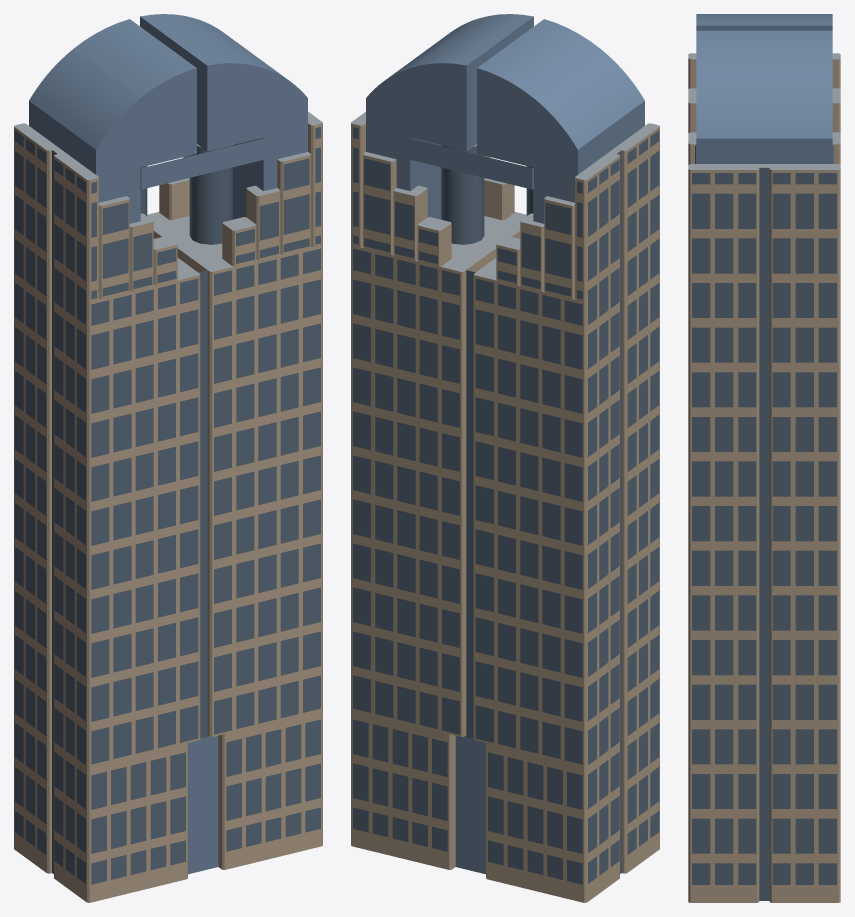
File: dal-chase-tower.glb
3 renders of one model, left to right at view 1: azimuth 30°, elevation 25°; view 2: azimuth 150°, elevation 25°; view 3: azimuth 270°, elevation 25°, orthographic.
Parts seen in each view (by area): view 1: Chase Tower; view 2: Chase Tower; view 3: Chase Tower.
Part boxes in pixels (box(x1,y1,x2,y2)): Chase Tower: box(14, 14, 322, 902); Chase Tower: box(351, 14, 659, 902); Chase Tower: box(688, 14, 840, 902).
Size of the model in its own units: 69.12 by 225 by 38.12.
